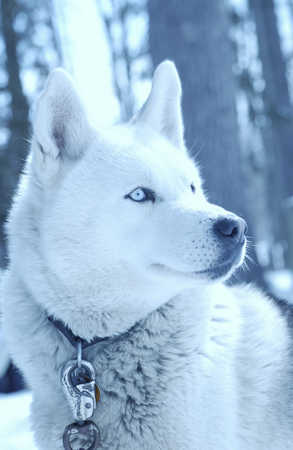dog: (2, 60, 291, 448)
